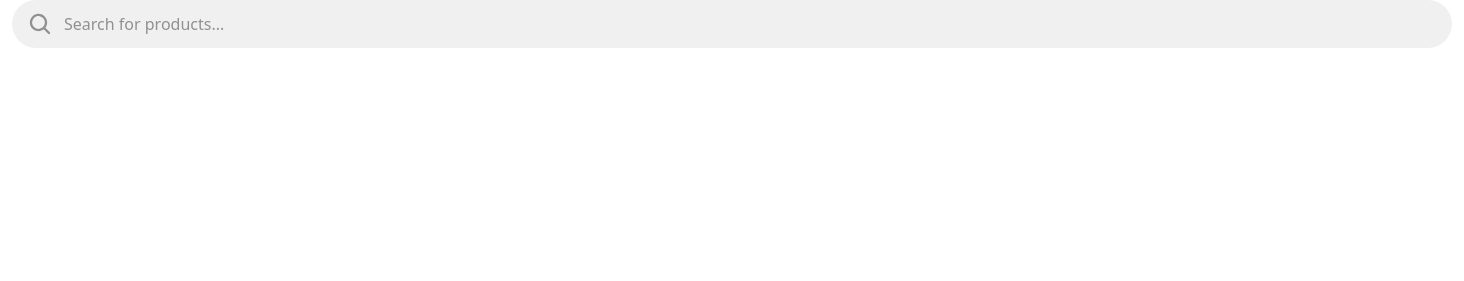
Test: SearchBox outside the shop page › closes on Escape but keeps the typed text
The image size is (1464, 281).
Type "shirt" into the dropdown labelled "Search for products" at coordinates (750, 24), box [64,12,1436,36]
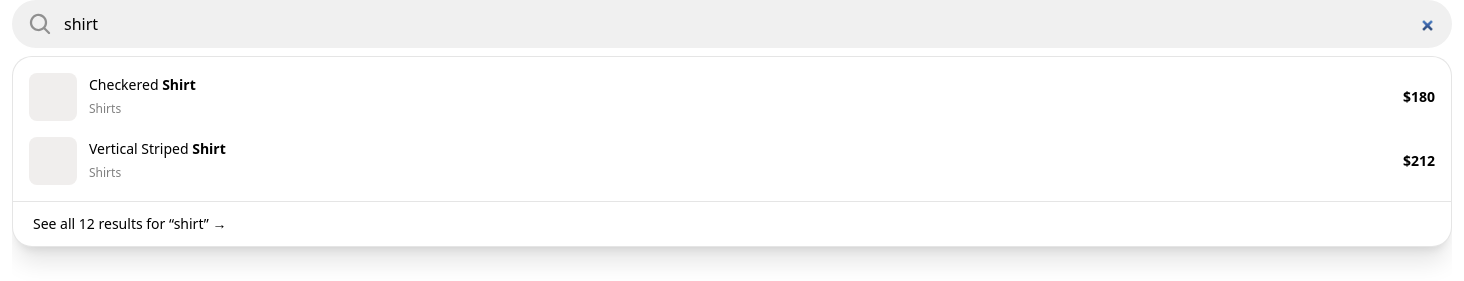
Result: the list is shown at [13,57,1451,201]
Press Escape
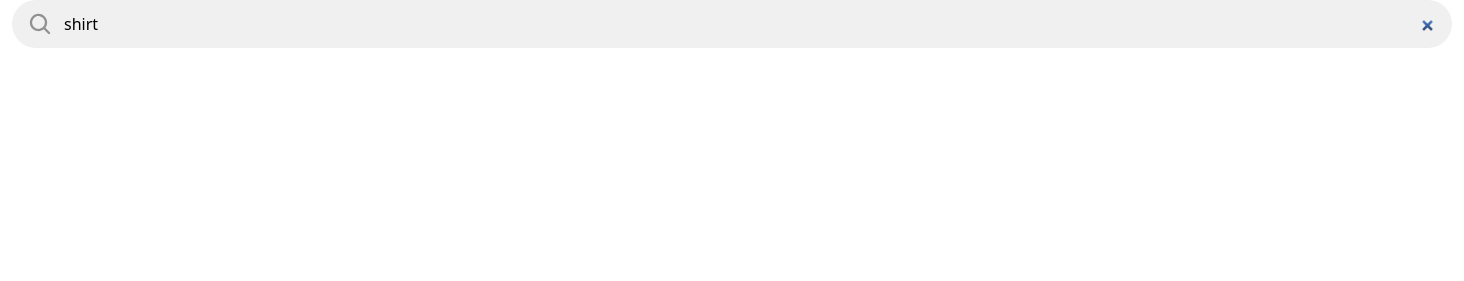
Result: the list is gone
